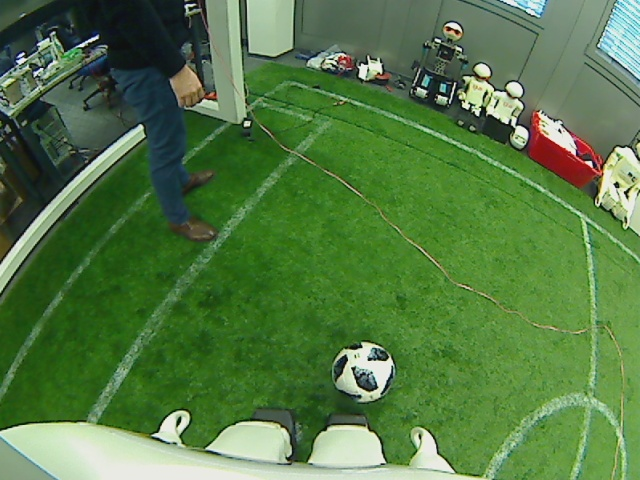ball: (329, 341, 396, 401)
